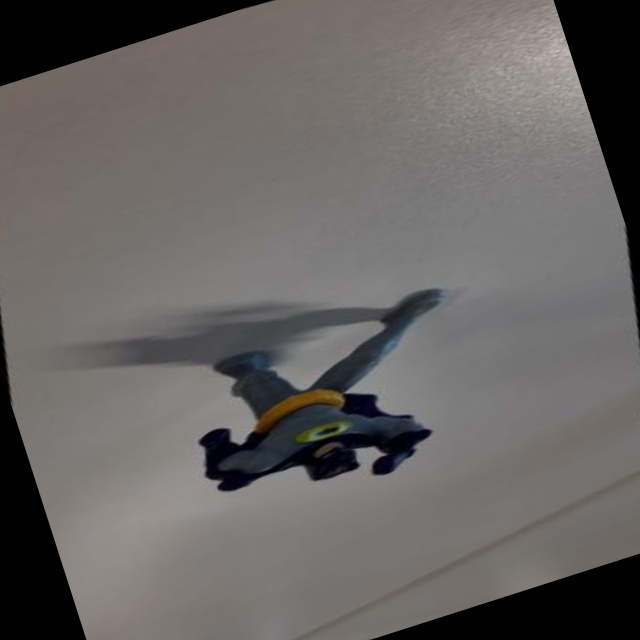Batman: (131, 255, 513, 538)
